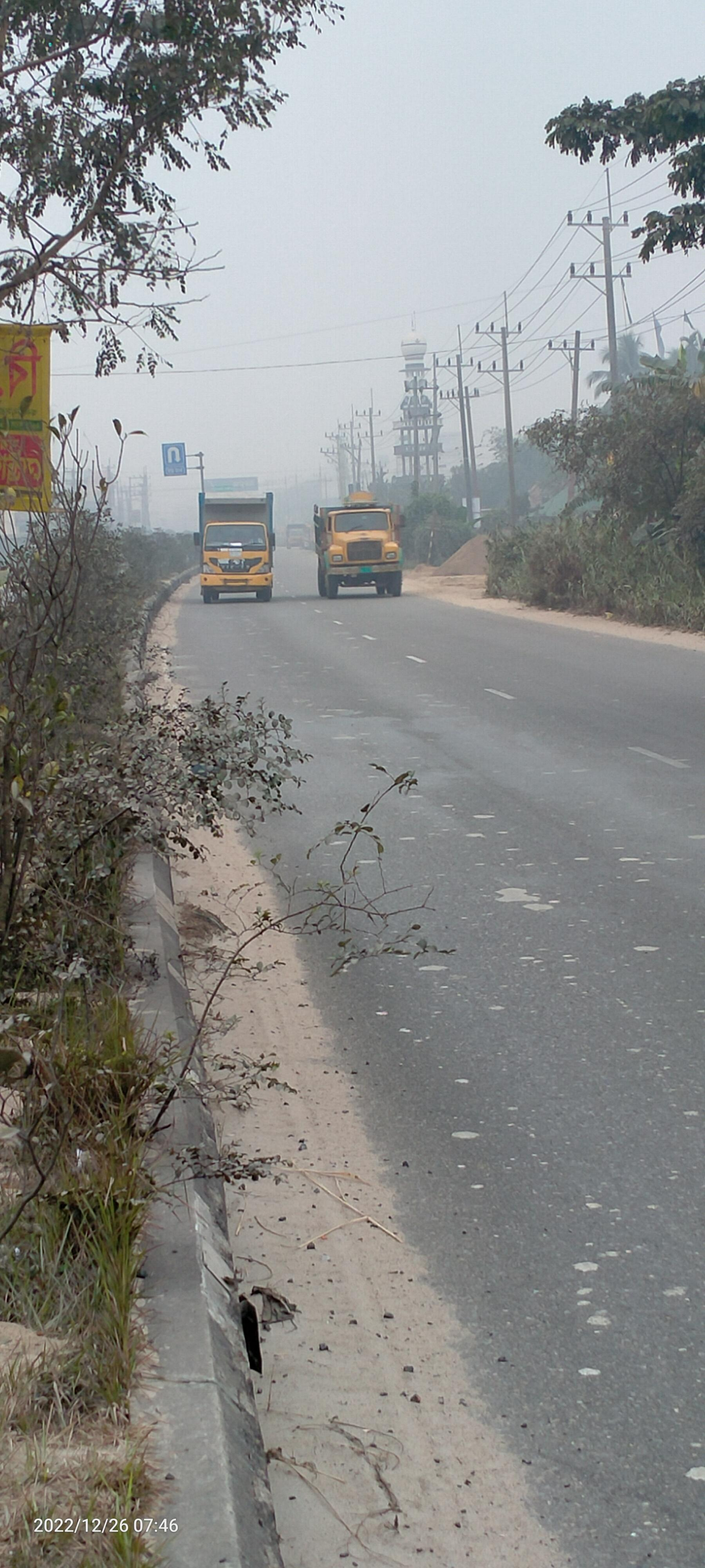Truck: (187, 485, 288, 612), (312, 486, 418, 602)
